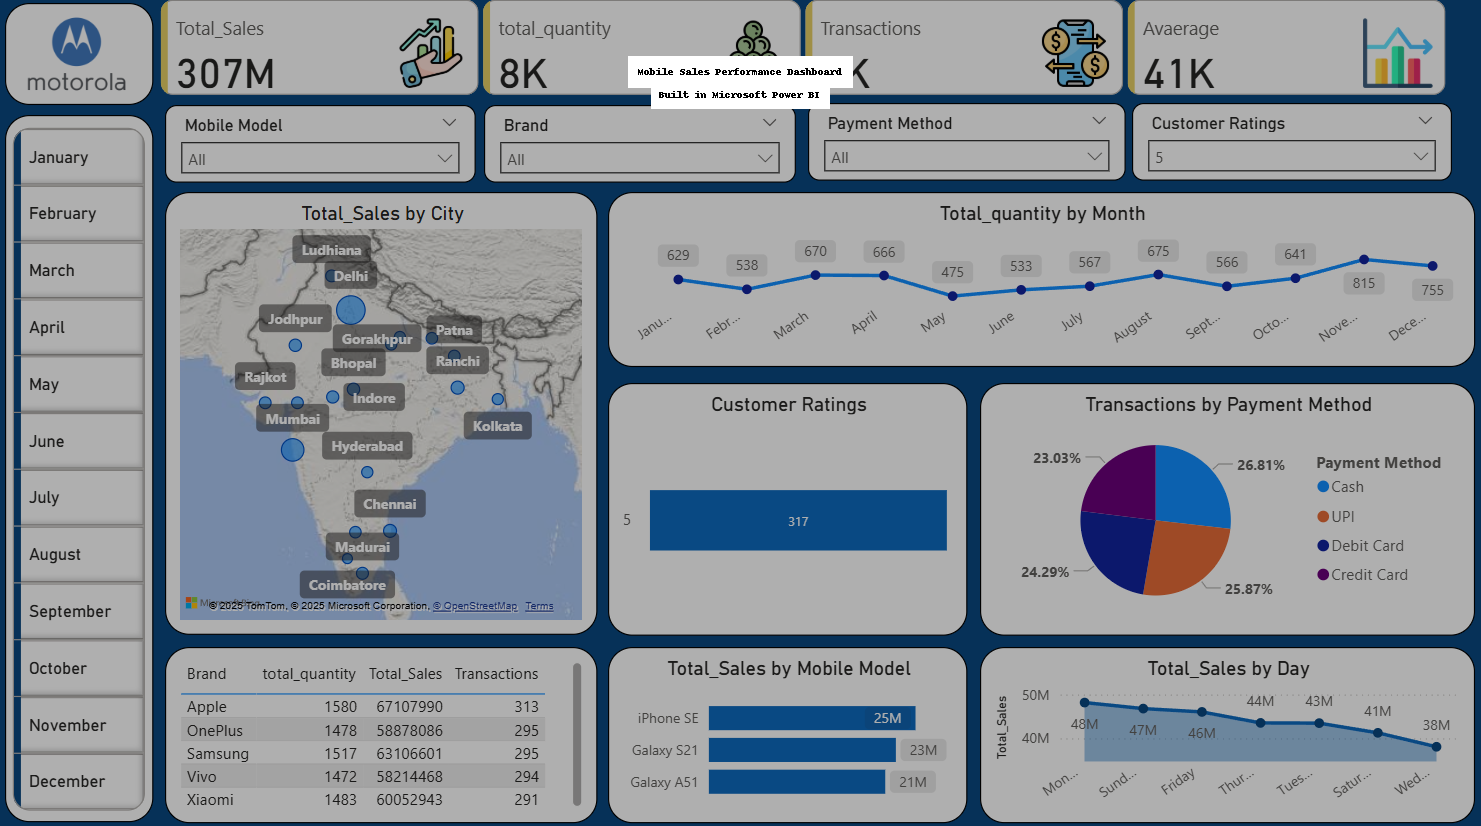

This screenshot's page, from the dashboard's own definition file:
{"tool":"powerbi","page":{"name":"Page 1","canvas":[1280,720],"ordinal":0},"visuals":[{"type":"shape","box":[4.9,7.8,128.4,154.7],"z":0},{"type":"image","box":[0,7.8,134.6,121.6],"z":1000},{"type":"shape","box":[4.9,171.2,128.4,542.7],"z":2000},{"type":"advancedSlicerVisual","fields":{"Values":["Sheet1.Date .Variation.Date Hierarchy.Month"]},"box":[6.8,179,124.5,535.9],"z":3000},{"type":"cardVisual","fields":{"Data":["Sales_data.Total_Sales","Sales_data.total_quantity","Sales_data.Transactions","Sales_data.Avaerage"]},"box":[134.2,0,1119.5,94.3],"z":4000},{"type":"map","fields":{"Category":["Sales_data.City"],"Size":["Sales_data.Total_Sales"]},"box":[143,171.2,373.5,382.2],"z":5000},{"type":"lineChart","title":"Total_quantity by Month","fields":{"Y":["Sales_data.total_quantity"],"Category":["Sales_data.Date .Variation.Date Hierarchy.Month","Sales_data.Date .Variation.Date Hierarchy.Day"]},"box":[525.2,171.2,748,150.8],"z":6000},{"type":"clusteredBarChart","fields":{"Category":["Sales_data.Mobile Model"],"Y":["Sales_data.Total_Sales"]},"box":[525.2,563.2,310.3,151.7],"z":7000},{"type":"pieChart","fields":{"Category":["Sales_data.Payment Method"],"Y":["Sales_data.Transactions"]},"box":[846.2,335.6,427,217.9],"z":7001},{"type":"funnel","title":"Customer Ratings","fields":{"Category":["Sales_data.Customer Ratings"],"Y":["CountNonNull(Sales_data.Customer Ratings)"]},"box":[525.2,335.6,310.3,217.9],"z":7002},{"type":"areaChart","title":"Total_Sales by Day","fields":{"Category":["Sales_data.Day Name.1"],"Y":["Sales_data.Total_Sales"]},"box":[846.2,563.2,427,151.7],"z":7003},{"type":"tableEx","fields":{"Values":["Sales_data.Brand","Sales_data.total_quantity","Sales_data.Total_Sales","Sales_data.Transactions"]},"box":[143,563.2,373.5,151.7],"z":7004},{"type":"slicer","fields":{"Values":["Sales_data.Mobile Model"]},"box":[143,95.3,268.4,67.1],"z":7005},{"type":"slicer","fields":{"Values":["Sales_data.Brand"]},"box":[418.2,95.3,269.4,67.1],"z":7006},{"type":"slicer","fields":{"Values":["Sales_data.Payment Method"]},"box":[697.4,94.3,274.3,67.1],"z":7007},{"type":"slicer","fields":{"Values":["Sales_data.Customer Ratings"]},"box":[977.5,94.3,276.2,67.1],"z":7008}]}

Visuals, with their boxes in screenshot pixels (x1, y1, x2, y2), scaled from the page's 1280x720 canvas onto the 1481x826 screenshot:
shape: BBox(6, 9, 154, 186)
image: BBox(0, 9, 156, 148)
shape: BBox(6, 196, 154, 819)
advancedSlicerVisual - Sheet1.Date .Variation.Date Hierarchy.Month: BBox(8, 205, 152, 820)
cardVisual - Sales_data.Total_Sales x Sales_data.total_quantity: BBox(155, 0, 1451, 108)
map - Sales_data.City x Sales_data.Total_Sales: BBox(165, 196, 598, 635)
"Total_quantity by Month" lineChart: BBox(608, 196, 1473, 369)
clusteredBarChart - Sales_data.Mobile Model x Sales_data.Total_Sales: BBox(608, 646, 967, 820)
pieChart - Sales_data.Payment Method x Sales_data.Transactions: BBox(979, 385, 1473, 635)
"Customer Ratings" funnel: BBox(608, 385, 967, 635)
"Total_Sales by Day" areaChart: BBox(979, 646, 1473, 820)
tableEx - Sales_data.Brand x Sales_data.total_quantity: BBox(165, 646, 598, 820)
slicer - Sales_data.Mobile Model: BBox(165, 109, 476, 186)
slicer - Sales_data.Brand: BBox(484, 109, 796, 186)
slicer - Sales_data.Payment Method: BBox(807, 108, 1124, 185)
slicer - Sales_data.Customer Ratings: BBox(1131, 108, 1451, 185)
